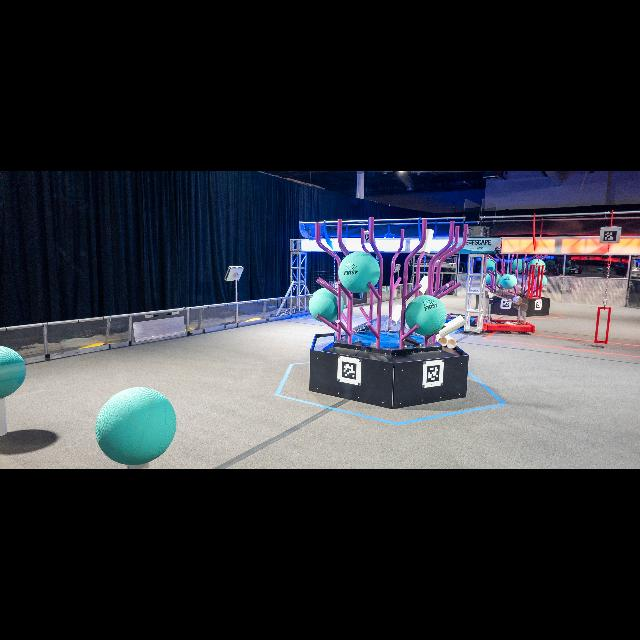ALGAE: (96, 388, 176, 466), (338, 252, 379, 294), (406, 296, 446, 336), (1, 346, 26, 399), (310, 288, 344, 322), (499, 274, 516, 290), (528, 260, 546, 274), (530, 275, 548, 289), (510, 259, 526, 273), (486, 272, 500, 286), (484, 259, 496, 273)
CORAL: (438, 316, 466, 338), (420, 230, 434, 254), (418, 276, 428, 296), (392, 306, 402, 326)
